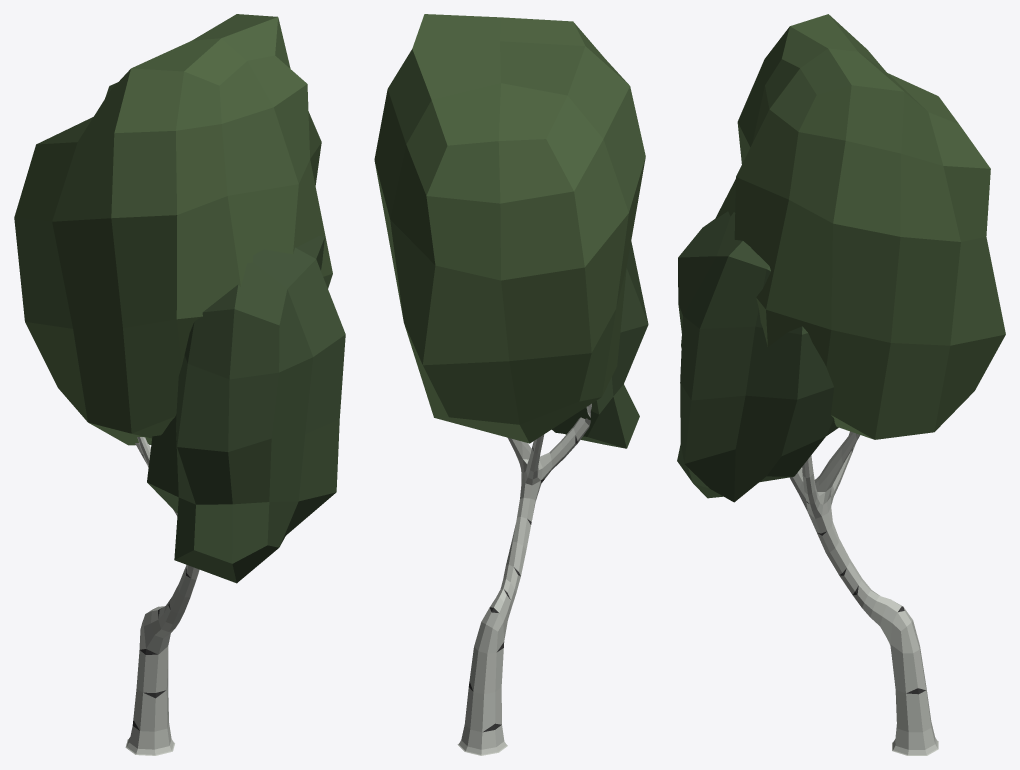
The model's file is BirchTree_2.glb.
The picture shows the model from 3 angles, left to right: view 1: azimuth 30°, elevation 25°; view 2: azimuth 150°, elevation 25°; view 3: azimuth 270°, elevation 25°; orthographic projection. The views are drawn at different scales.
Parts seen in each view (by area): view 1: Green.001, DarkGreen.001, White.001; view 2: Green.001, White.001, DarkGreen.001; view 3: Green.001, DarkGreen.001, White.001.
Boxes of the visible parts, x1=… form: Green.001: x1=14, y1=14, x2=332, y2=445; DarkGreen.001: x1=147, y1=236, x2=345, y2=583; White.001: x1=125, y1=437, x2=199, y2=755; Green.001: x1=374, y1=14, x2=645, y2=443; White.001: x1=457, y1=403, x2=591, y2=755; DarkGreen.001: x1=552, y1=241, x2=648, y2=448; Green.001: x1=714, y1=14, x2=1005, y2=439; DarkGreen.001: x1=677, y1=211, x2=838, y2=502; White.001: x1=789, y1=431, x2=938, y2=755.
Size of the model in its own units: 1.47 by 4.03 by 1.69.
